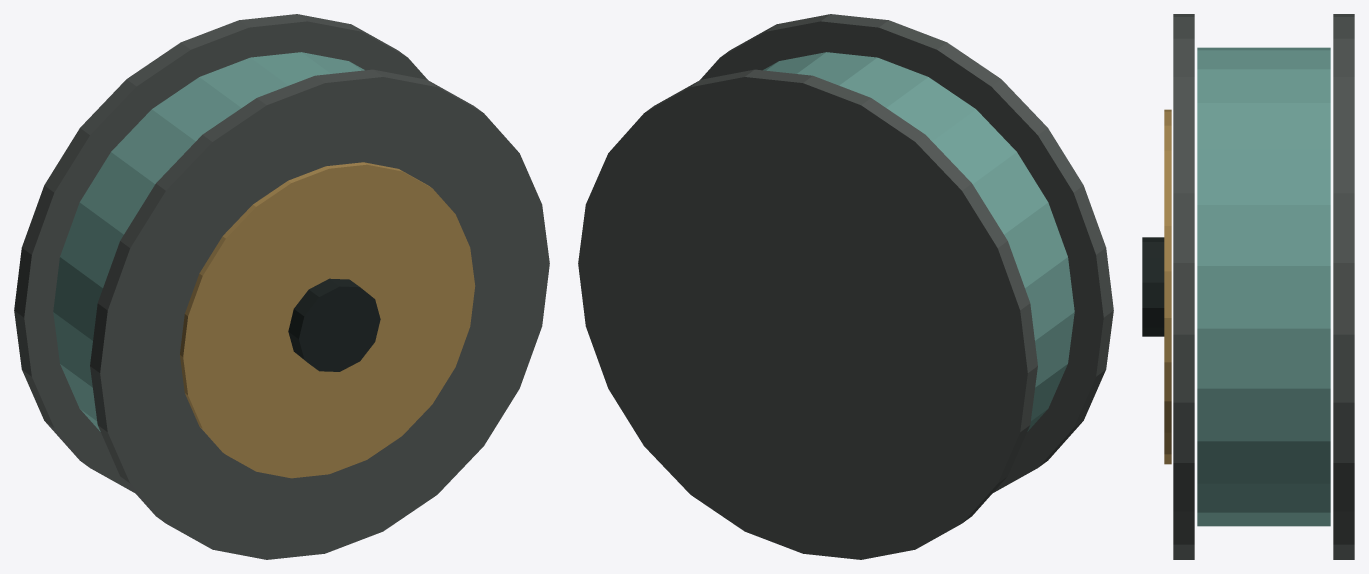
Rendered from coated_line.glb.
The picture shows the model from 3 angles, left to right: view 1: azimuth 30°, elevation 25°; view 2: azimuth 150°, elevation 25°; view 3: azimuth 270°, elevation 25°; orthographic projection. The views are drawn at different scales.
Parts seen in each view (by area): view 1: Spool_flange.010, Front_label.005, Spool_flange.011, Wound_line.005, Center_hub; view 2: Spool_flange.011, Spool_flange.010, Wound_line.005; view 3: Wound_line.005, Spool_flange.010, Spool_flange.011, Front_label.005, Center_hub.
Part boxes in pixels (x1,y1,x2,y2): Spool_flange.010: [90, 69, 549, 559]; Front_label.005: [180, 162, 475, 478]; Spool_flange.011: [14, 14, 427, 493]; Wound_line.005: [53, 52, 364, 431]; Center_hub: [288, 278, 380, 371]; Spool_flange.011: [578, 69, 1037, 559]; Spool_flange.010: [700, 14, 1113, 493]; Wound_line.005: [763, 52, 1074, 431]; Wound_line.005: [1197, 47, 1330, 526]; Spool_flange.010: [1173, 14, 1194, 559]; Spool_flange.011: [1333, 14, 1354, 559]; Front_label.005: [1164, 109, 1171, 464]; Center_hub: [1142, 237, 1164, 336].
Size of the model in its own units: 0.308 by 0.308 by 0.1195.
